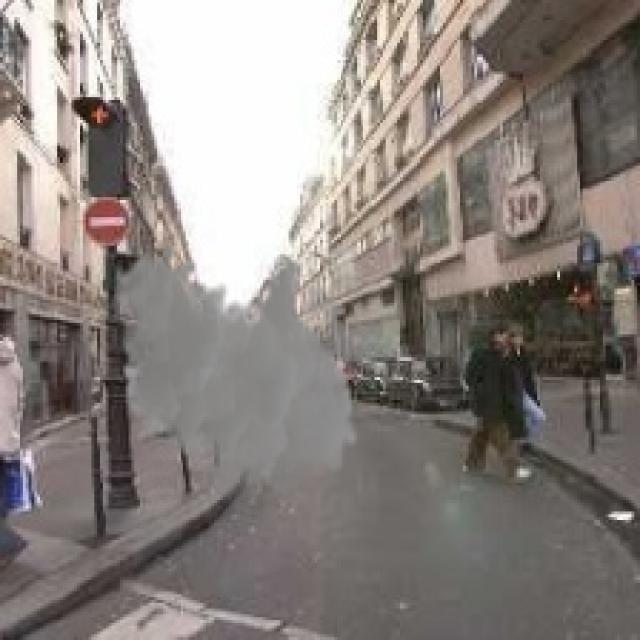Smoke: (111, 243, 360, 512)
